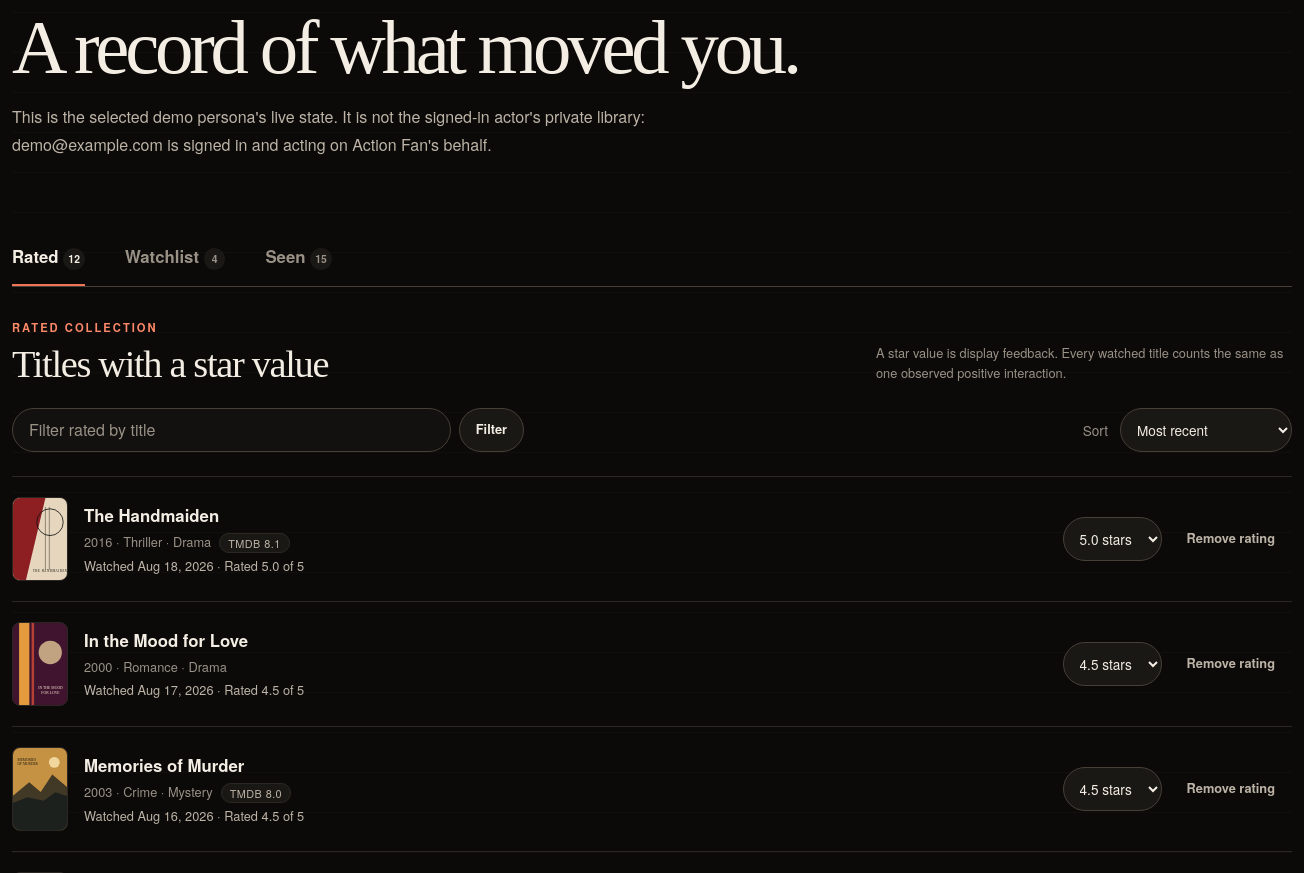
mutations reconcile canonical state › edits a rating, reconciles the committed response, and restores focus
The image size is (1304, 873).
Select "3.0 stars" in the dropdown named "Rating for Memories of Murder" in the row of "Memories of Murder" at [1112, 789], box [1062,767,1162,811]
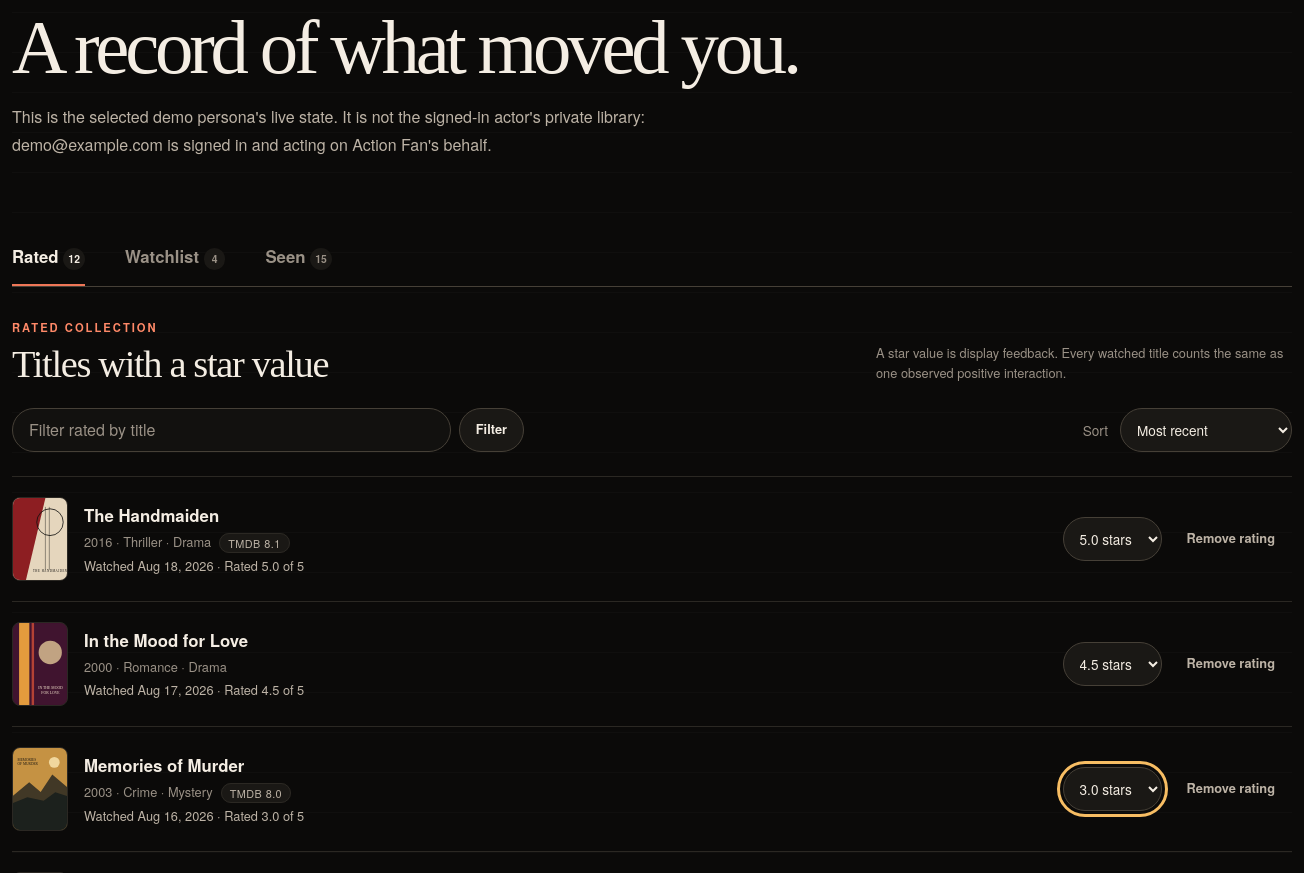
Check: the text "Watched Aug 16, 2026 · Rated 3.0 of 5" is shown, box [84,806,304,824]
